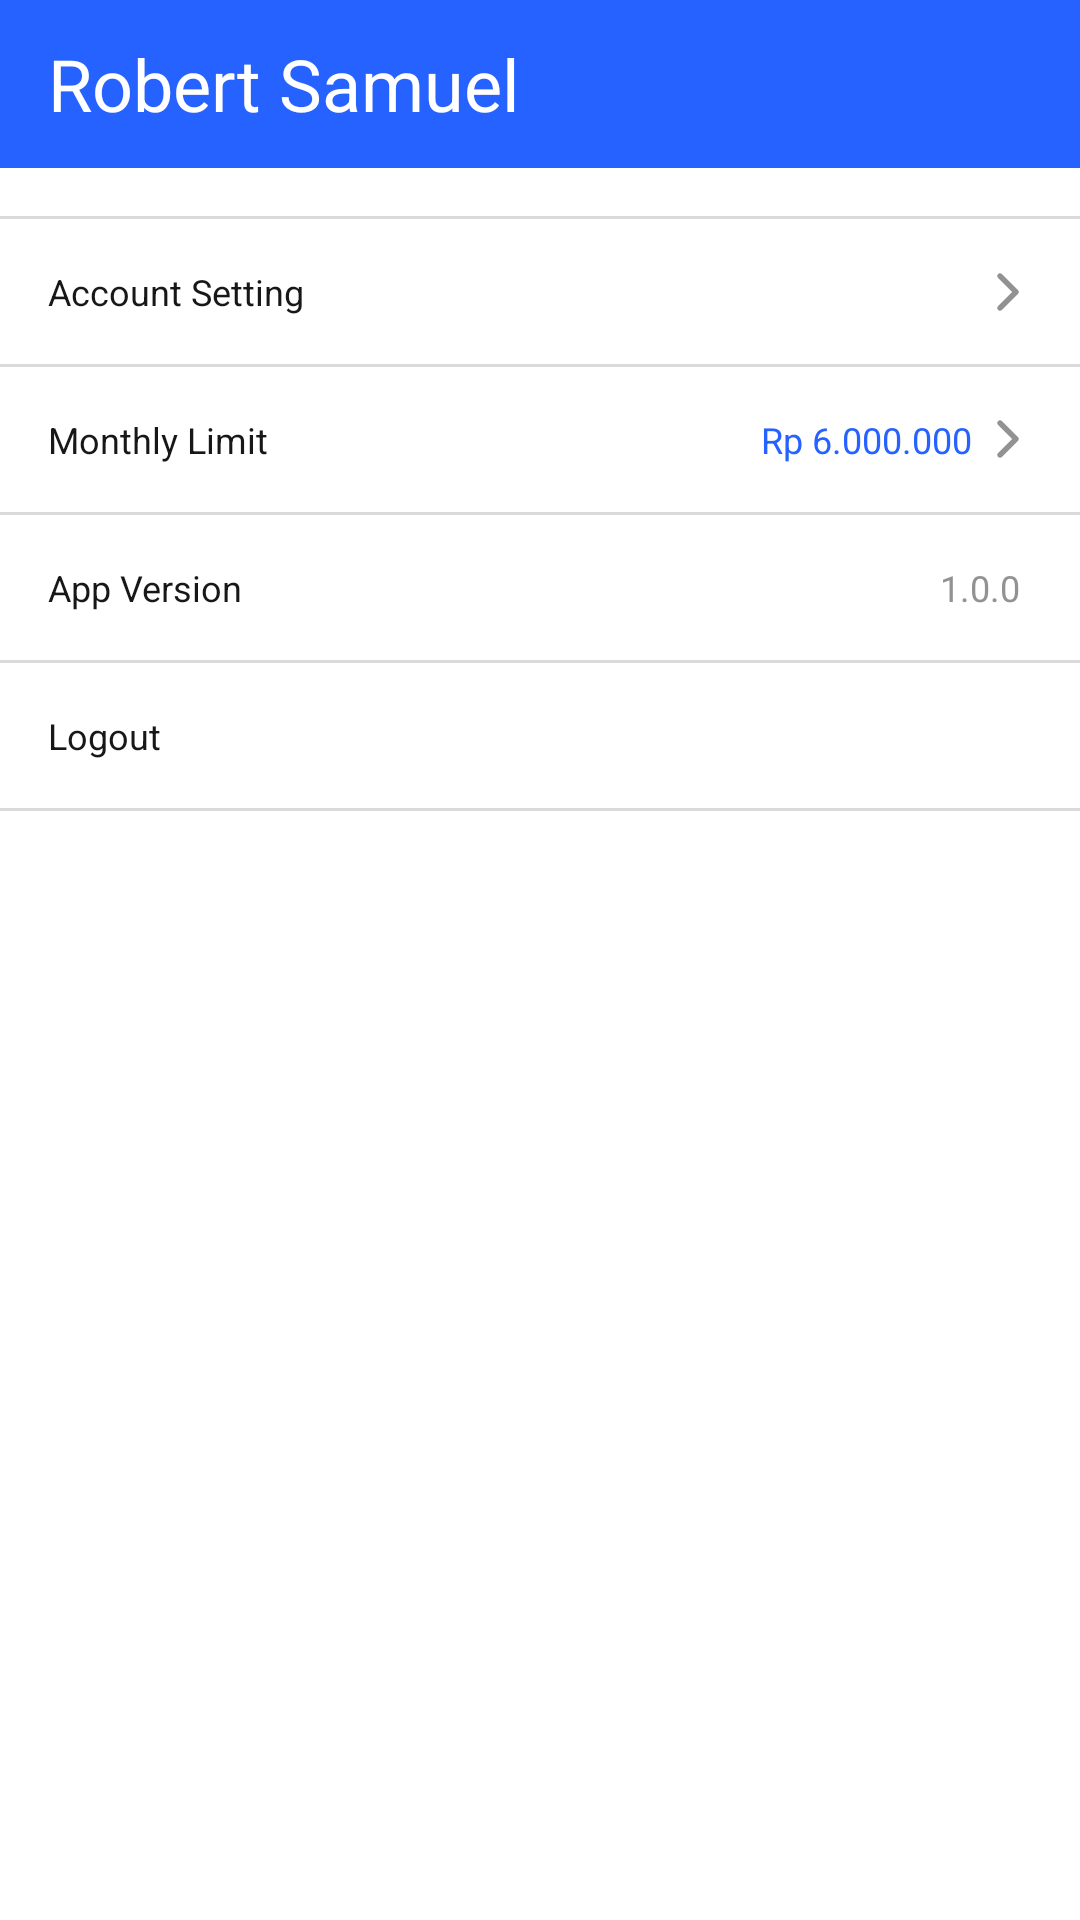

Icon bounding boxes for this 1080x1920 phone screenshot, format (x1, y1, x2, y2):
chevron right: (997, 273, 1019, 311), (997, 420, 1019, 458)
